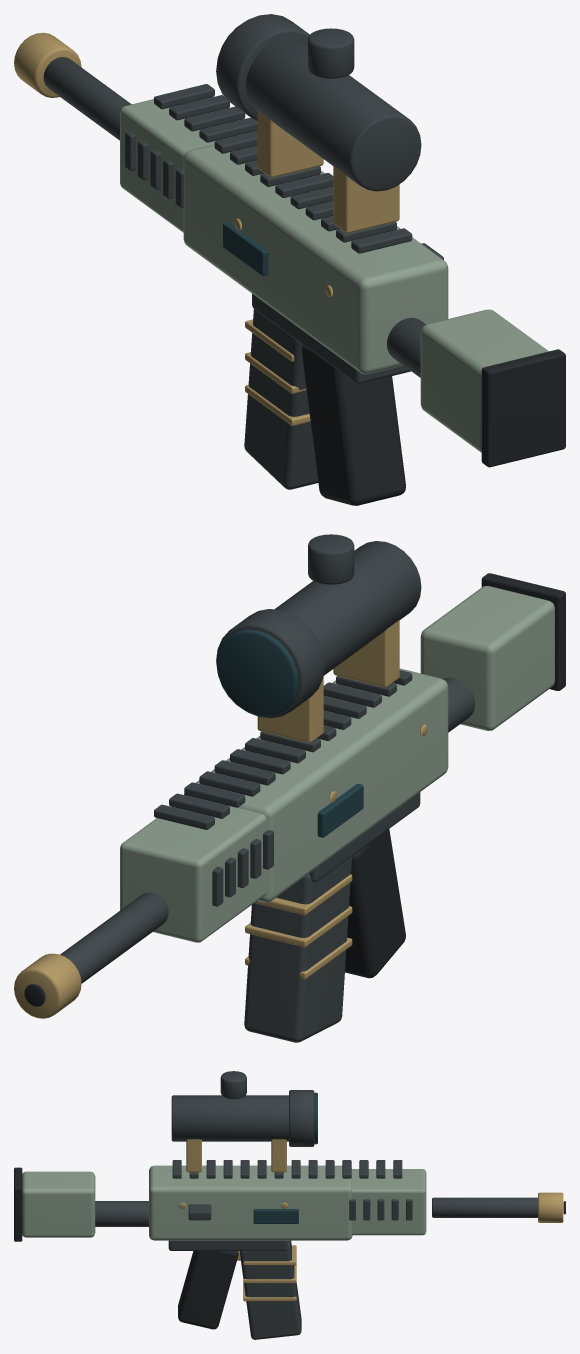
Rendered from Weapon_burst_scoped.glb.
The picture shows the model from 3 angles, top to bottom: view 1: azimuth 30°, elevation 25°; view 2: azimuth 150°, elevation 25°; view 3: azimuth 270°, elevation 25°; orthographic projection. The views are drawn at different scales.
Parts seen in each view (by area): view 1: Weapon_burst_scoped, ReloadMagazine; view 2: Weapon_burst_scoped, ReloadMagazine; view 3: Weapon_burst_scoped, ReloadMagazine, ChargingHandle.
Part boxes in pixels (left/top/right/bottom): Weapon_burst_scoped: left=14, top=14, right=565, bottom=505; ReloadMagazine: left=244, top=309, right=318, bottom=489; Weapon_burst_scoped: left=14, top=534, right=565, bottom=1018; ReloadMagazine: left=244, top=856, right=352, bottom=1042; Weapon_burst_scoped: left=14, top=1071, right=565, bottom=1329; ReloadMagazine: left=239, top=1240, right=301, bottom=1339; ChargingHandle: left=188, top=1204, right=211, bottom=1220.
Bounding box in the file's own units: 0.142 × 0.5019 × 0.9755.
